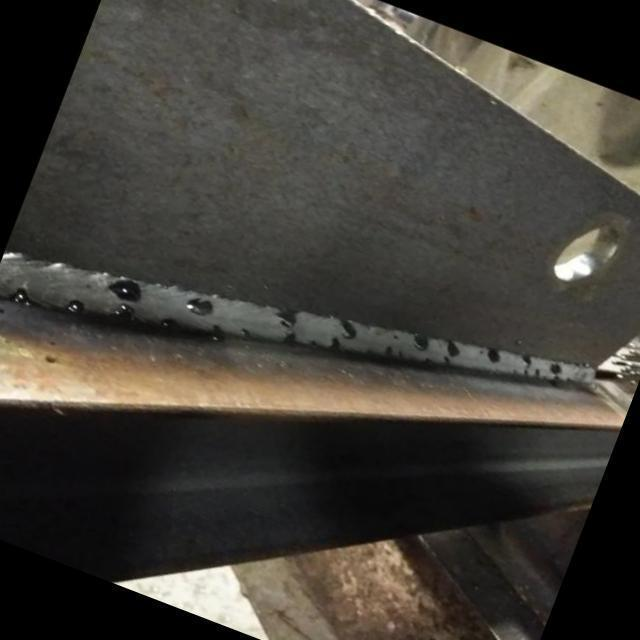defect: (102, 275, 144, 324), (182, 297, 220, 321), (512, 352, 542, 379), (267, 308, 302, 330), (60, 295, 90, 317), (476, 344, 504, 366), (442, 339, 461, 367), (338, 320, 361, 340), (410, 333, 432, 353), (206, 324, 227, 344), (545, 361, 565, 381), (384, 345, 407, 360), (325, 336, 343, 355), (158, 316, 178, 332), (281, 332, 298, 346), (240, 326, 254, 341), (310, 337, 319, 350), (389, 333, 400, 341)
